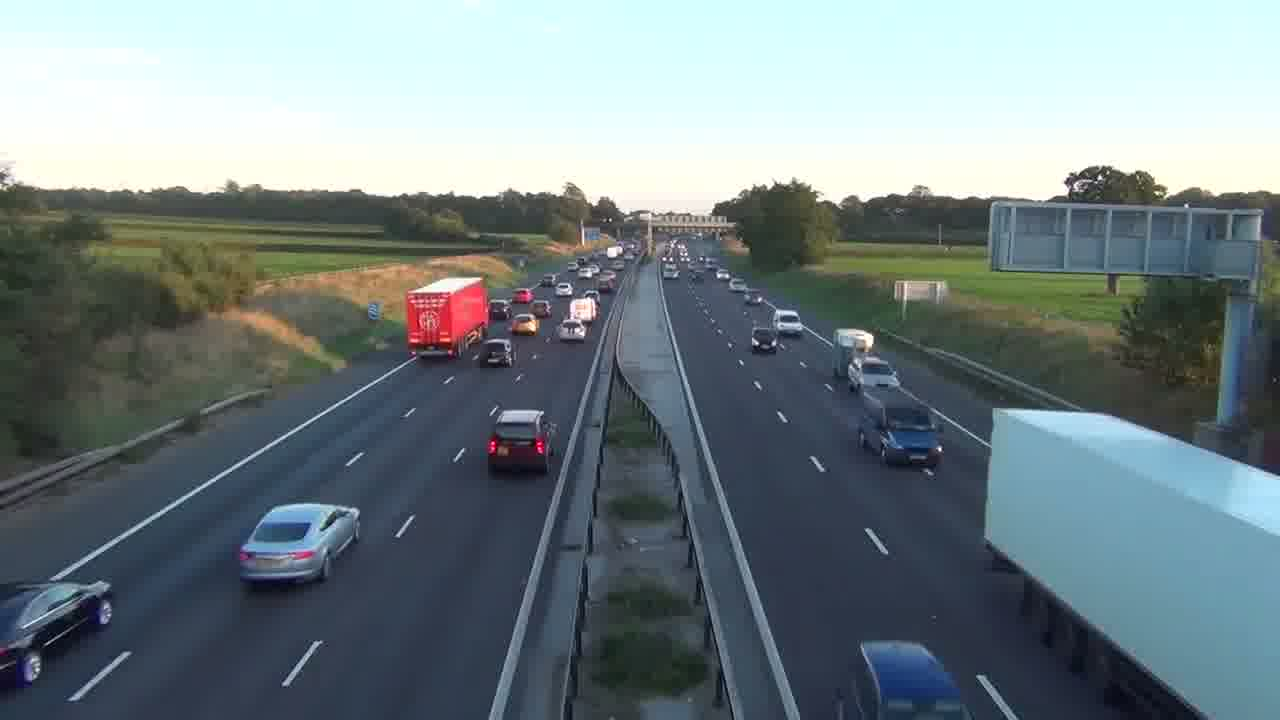car: (0, 578, 114, 689), (237, 501, 361, 587), (847, 353, 901, 392), (557, 318, 586, 342)
truck: (982, 408, 1280, 715), (856, 384, 944, 473), (405, 275, 490, 358), (486, 408, 551, 474)
